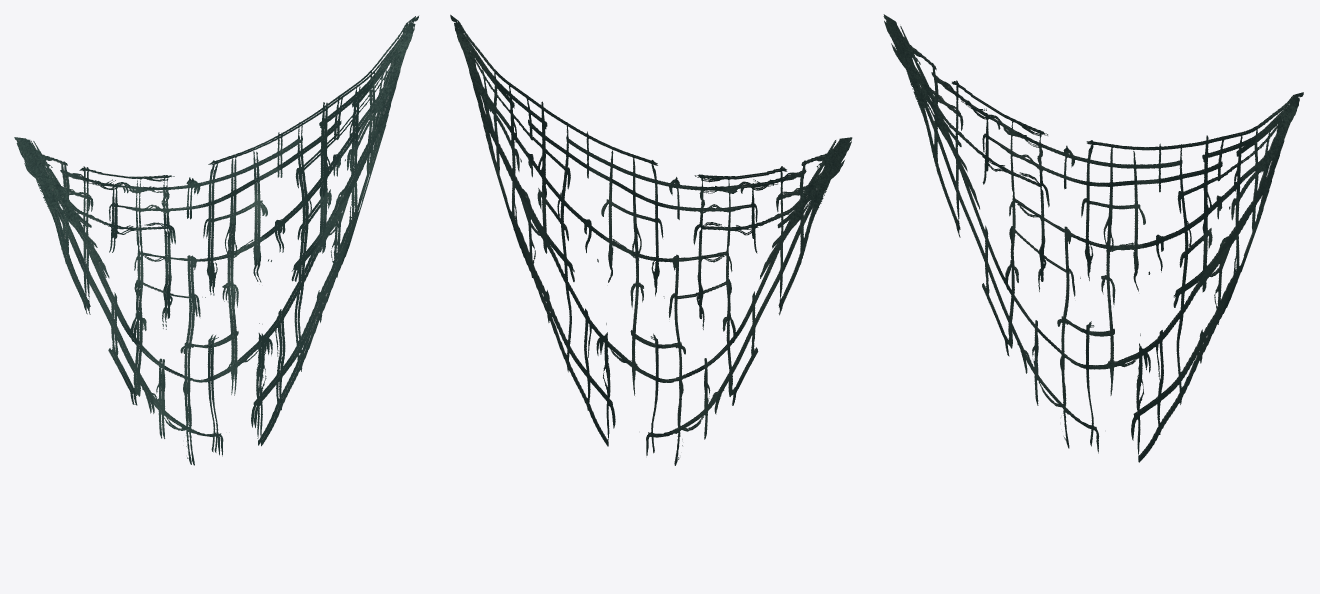
File: Fish_net08.fbx
The picture shows the model from 3 angles, left to right: view 1: azimuth 30°, elevation 25°; view 2: azimuth 150°, elevation 25°; view 3: azimuth 330°, elevation 25°; orthographic projection. The views are drawn at different scales.
Visible parts, largest first — view 1: Fish_net08; view 2: Fish_net08; view 3: Fish_net08.
Boxes of the visible parts, x1,y1,x2,y2 form: Fish_net08: [14, 15, 419, 465]; Fish_net08: [450, 14, 852, 465]; Fish_net08: [883, 14, 1303, 462].
Bounding box in the file's own units: 2 × 2.44 × 0.012.
1 material, 1 textured.
